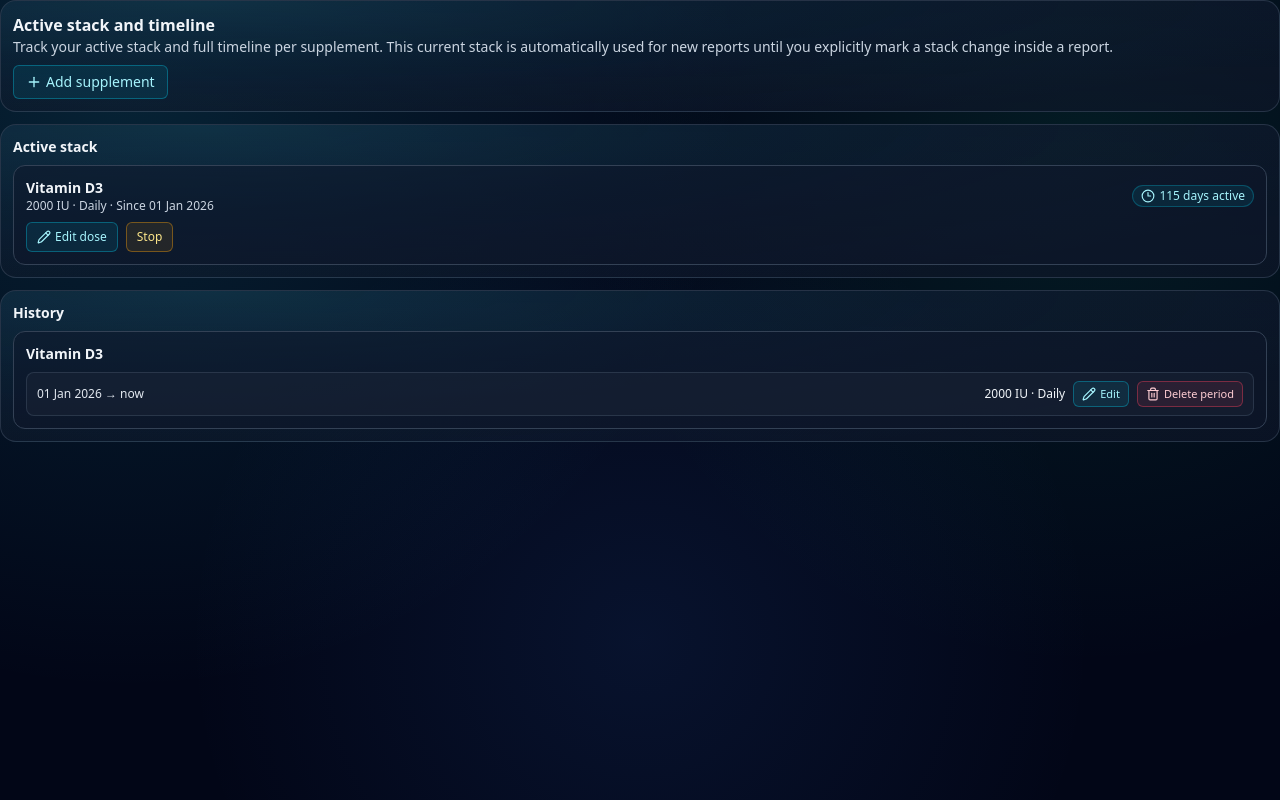
Test: SupplementsView UX feedback › shows a labeled cancel action while editing a supplement
The width and height of the screenshot is (1280, 800).
Click the button "Edit dose" at (72, 237), box [26,222,118,252]
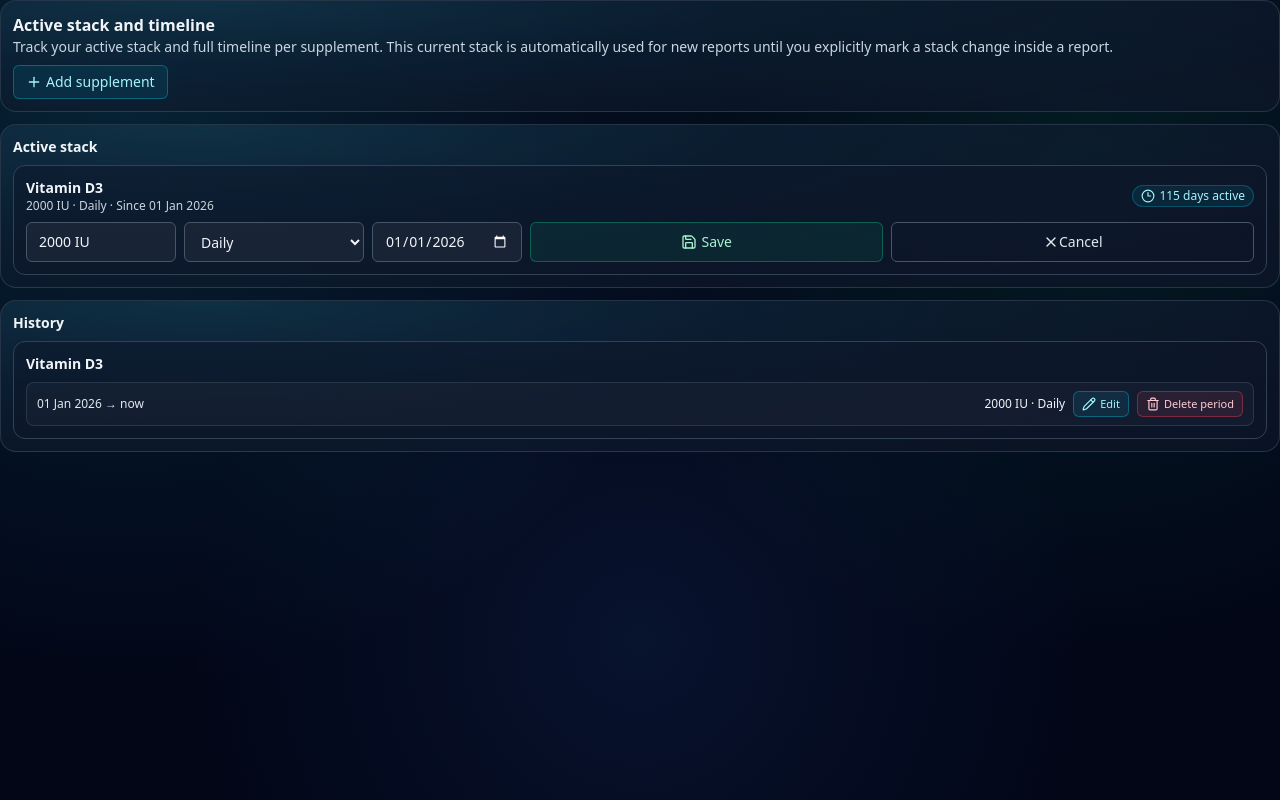
Expected: the button "Cancel" is shown, [892,222,1254,262]
